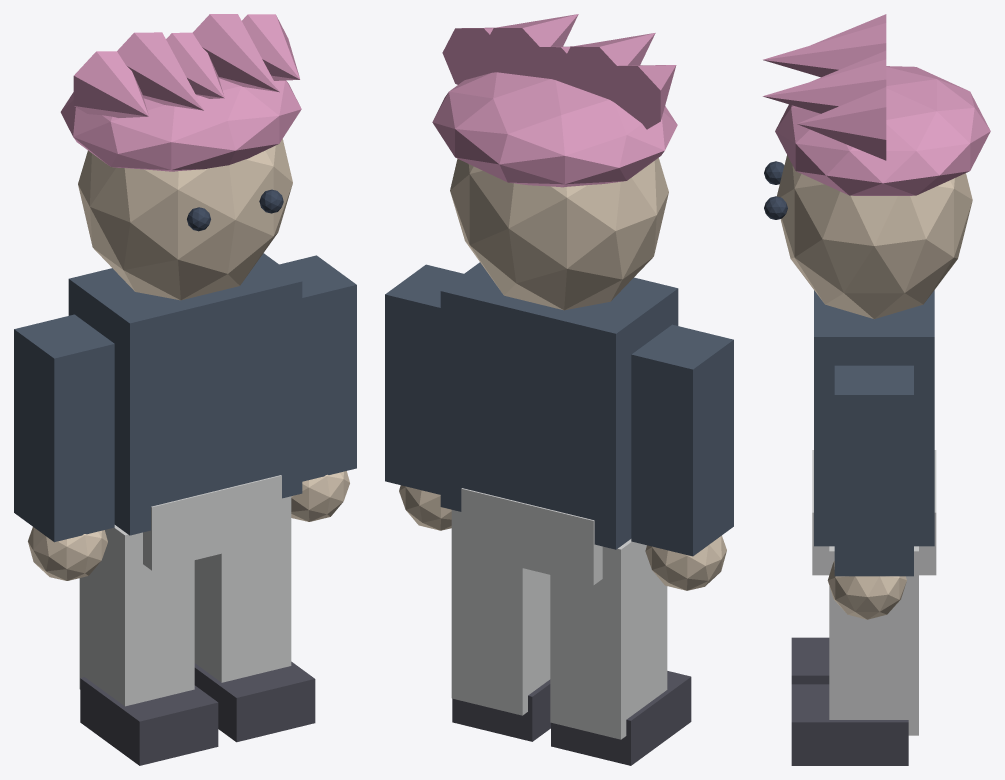
The model's file is natsu.glb.
3 renders of one model, left to right at view 1: azimuth 30°, elevation 25°; view 2: azimuth 150°, elevation 25°; view 3: azimuth 270°, elevation 25°, orthographic. The views are drawn at different scales.
Visible parts, largest first — view 1: part_000, part_010, part_002, part_004, part_013, part_008, part_006, part_001, part_005, part_009, part_014, part_015 (+5 smaller); view 2: part_000, part_010, part_002, part_013, part_004, part_008, part_006, part_001, part_005, part_015, part_014, part_017 (+5 smaller); view 3: part_010, part_006, part_013, part_000, part_008, part_009, part_018, part_015, part_017, part_007, part_005, part_001 (+1 smaller).
Boxes of the visible parts, x1,y1,x2,y2 form: part_000: (68,253,302,535); part_010: (78,139,292,300); part_002: (14,314,114,542); part_004: (79,525,194,706); part_013: (60,78,301,171); part_008: (194,496,291,682); part_006: (279,255,356,481); part_001: (143,475,281,570); part_005: (80,677,218,765); part_009: (194,661,315,742); part_014: (73,51,148,117); part_015: (117,32,203,110); part_000: (440,262,678,549); part_010: (450,158,668,310); part_002: (631,324,733,556); part_013: (432,72,677,187); part_004: (550,539,667,739); part_008: (451,510,550,715); part_006: (385,264,463,494); part_001: (461,488,602,585); part_005: (551,671,691,765); part_015: (558,33,655,103); part_014: (596,65,676,129); part_017: (481,14,578,77); part_010: (777,155,972,319); part_006: (834,365,913,576); part_013: (775,66,990,195); part_000: (814,290,934,546); part_008: (829,546,918,735); part_009: (791,684,908,765); part_018: (797,87,886,160); part_015: (763,23,886,77); part_017: (763,59,886,113); part_007: (827,561,906,619); part_005: (791,637,829,684); part_001: (812,450,936,575).
Bounding box in the file's own units: 1.03 × 2.17 × 0.6628.
